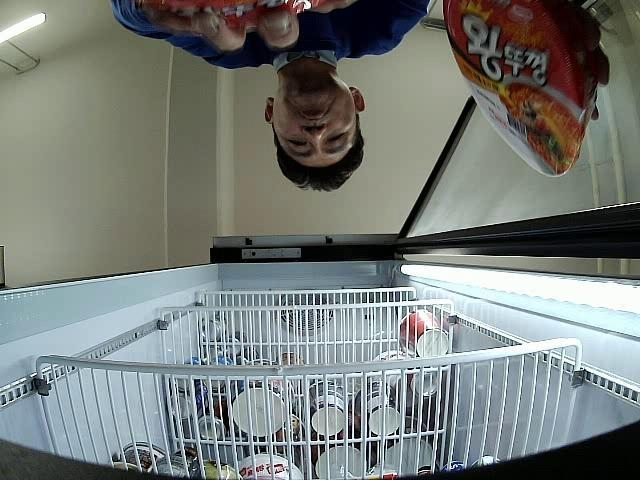10_wangTtukkeong: (444, 0, 596, 178), (142, 0, 334, 33)
